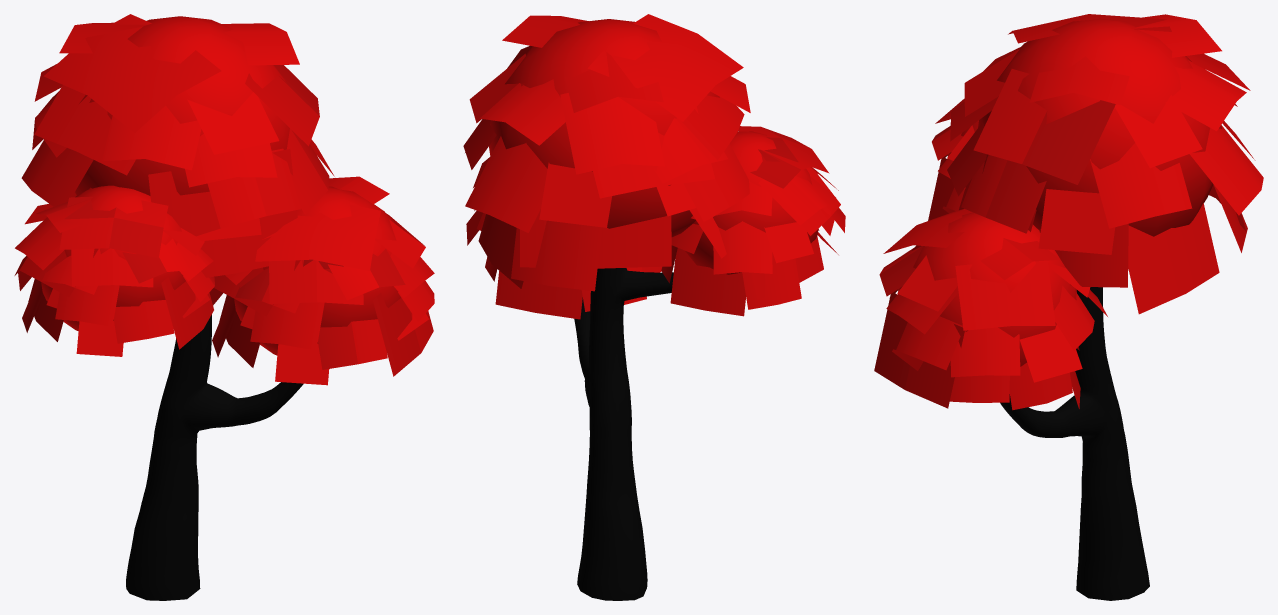
File: trunkvar3Model.fbx
3 views of the same model, side by side, from view 1: azimuth 30°, elevation 25°; view 2: azimuth 150°, elevation 25°; view 3: azimuth 270°, elevation 25° (orthographic). The views are drawn at different scales.
Visible parts, largest first — view 1: Oak4; view 2: Oak4; view 3: Oak4.
Boxes of the visible parts, <box> form: Oak4: <box>14,14,434,600</box>; Oak4: <box>463,14,845,600</box>; Oak4: <box>874,14,1263,600</box>.
Bounding box in the file's own units: 82.78 × 120 × 74.99.
